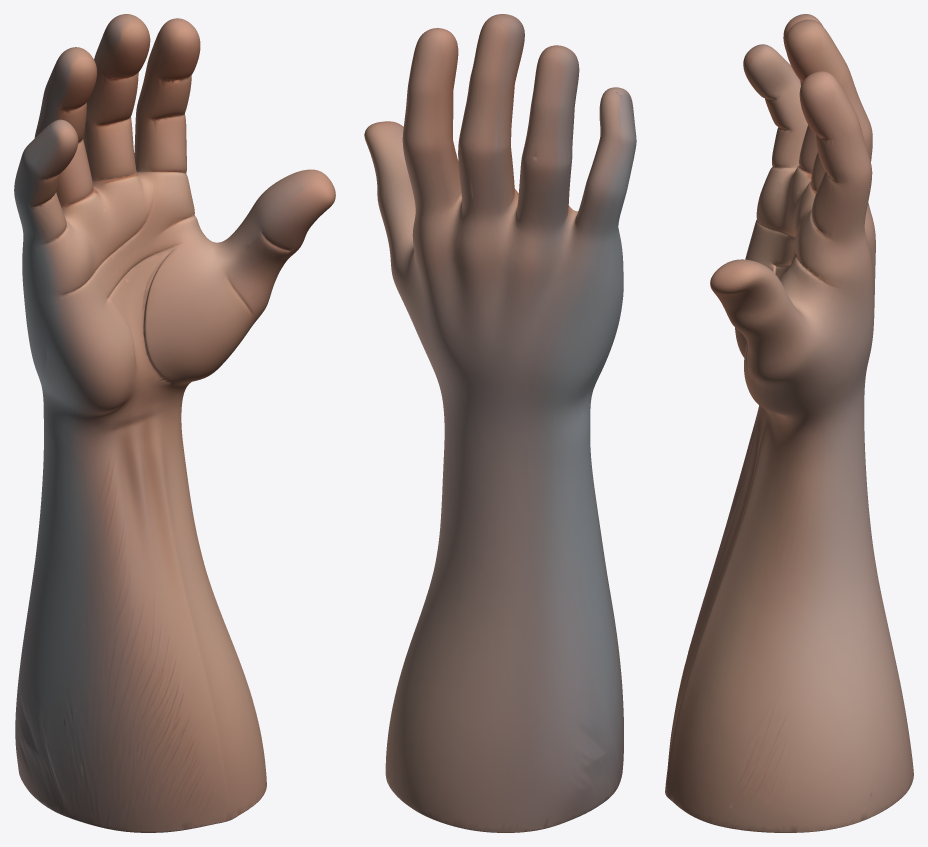
Rendered from hand.glb.
3 renders of one model, left to right at view 1: azimuth 30°, elevation 25°; view 2: azimuth 150°, elevation 25°; view 3: azimuth 270°, elevation 25°, orthographic.
Visible parts, largest first — view 1: node_0; view 2: node_0; view 3: node_0.
Part boxes in pixels (box(x1,y1,x2,y2)): node_0: box(14, 14, 335, 832); node_0: box(364, 14, 636, 832); node_0: box(665, 14, 913, 832).
Bounding box in the file's own units: 0.4446 × 1.13 × 0.3378.
Materials: 1 (1 with a texture image).
